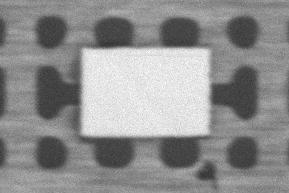DIE_CRACK: (121, 51, 204, 59)
